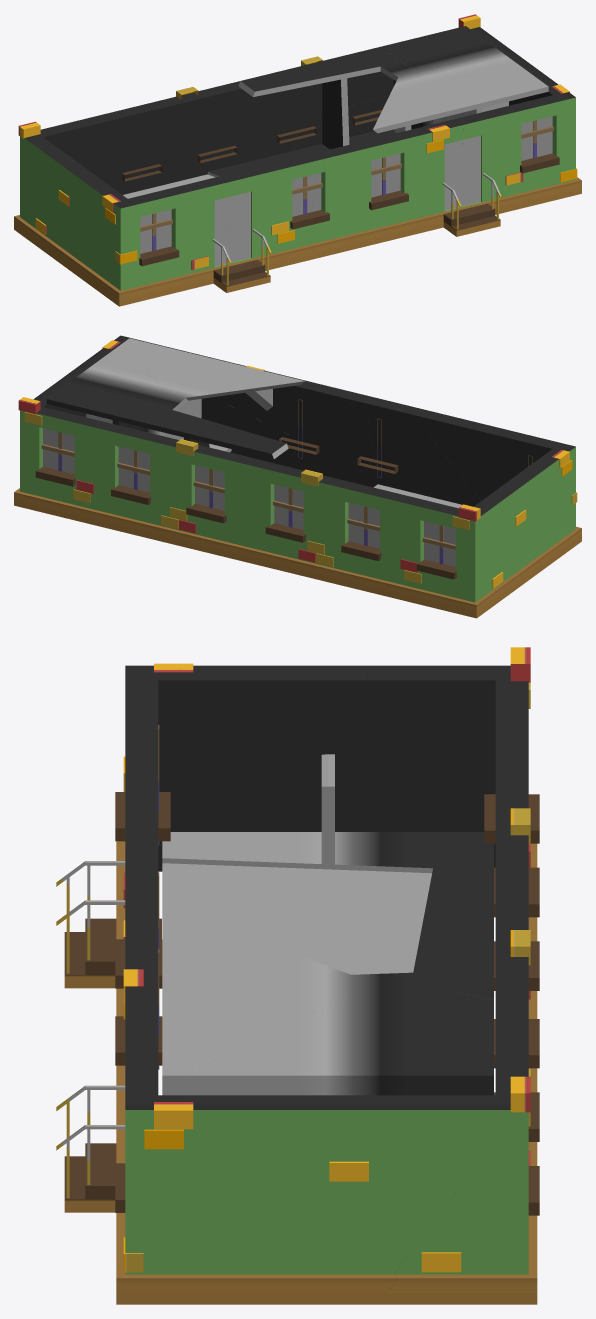
File: House_1_bot_cell.fbx
3 views of the same model, one above another, from view 1: azimuth 30°, elevation 25°; view 2: azimuth 150°, elevation 25°; view 3: azimuth 270°, elevation 25° (orthographic). The views are drawn at different scales.
Parts seen in each view (by area): view 1: bot_cell.013, bot_cell.002, bot_cell.003, bot_cell.005, bot_cell.007, botobt_cell.006, botobt_cell.012, bot_cell.006, bot_cell.008, bot_cell.012, botobt_cell.001, bot_cell.010 (+10 smaller); view 2: bot_cell.003, bot_cell.002, bot_cell.013, bot_cell.010, bot_cell.004, bot_cell.005, botobt_cell.012, botobt_cell.001, bot_cell.006, bot_cell.012, botobt_cell.006, bot_cell.008 (+12 smaller); view 3: bot_cell, bot_cell.013, bot_cell.003, botobt_cell.001, botobt_cell.008, botobt_cell.012, botobt_cell.004, bot_cell.010, bot_cell.004, botobt_cell.006, bot_cell.002, bot_cell.012 (+13 smaller).
Part boxes in pixels (x1,y1,x2,y2): bot_cell.013: [60, 160, 274, 306]; bot_cell.002: [133, 81, 294, 190]; bot_cell.003: [14, 107, 141, 277]; bot_cell.005: [182, 153, 323, 291]; bot_cell.007: [455, 98, 569, 201]; botobt_cell.006: [208, 44, 395, 177]; botobt_cell.012: [373, 72, 548, 133]; bot_cell.006: [311, 150, 399, 259]; bot_cell.008: [388, 159, 547, 237]; bot_cell.012: [326, 119, 463, 191]; botobt_cell.001: [389, 26, 543, 82]; bot_cell.010: [284, 27, 492, 120]; bot_cell.003: [359, 486, 542, 618]; bot_cell.002: [206, 453, 369, 589]; bot_cell.013: [413, 409, 581, 569]; bot_cell.010: [20, 396, 230, 496]; bot_cell.004: [14, 448, 209, 545]; bot_cell.005: [365, 397, 481, 506]; botobt_cell.012: [125, 338, 304, 418]; botobt_cell.001: [46, 342, 165, 425]; bot_cell.006: [293, 394, 374, 487]; bot_cell.012: [224, 363, 362, 438]; botobt_cell.006: [121, 410, 288, 459]; bot_cell.008: [201, 403, 296, 467]; bot_cell: [116, 1083, 456, 1304]; bot_cell.013: [116, 665, 367, 900]; bot_cell.003: [292, 665, 537, 940]; botobt_cell.001: [181, 993, 493, 1095]; botobt_cell.008: [162, 863, 431, 974]; botobt_cell.012: [162, 904, 354, 1095]; botobt_cell.004: [162, 754, 493, 873]; bot_cell.010: [438, 911, 528, 1190]; bot_cell.004: [388, 1090, 537, 1291]; botobt_cell.006: [413, 855, 493, 1000]; bot_cell.002: [495, 776, 537, 1090]; bot_cell.012: [125, 873, 158, 999].
Size of the model in its own units: 2783 by 600 by 1259.
